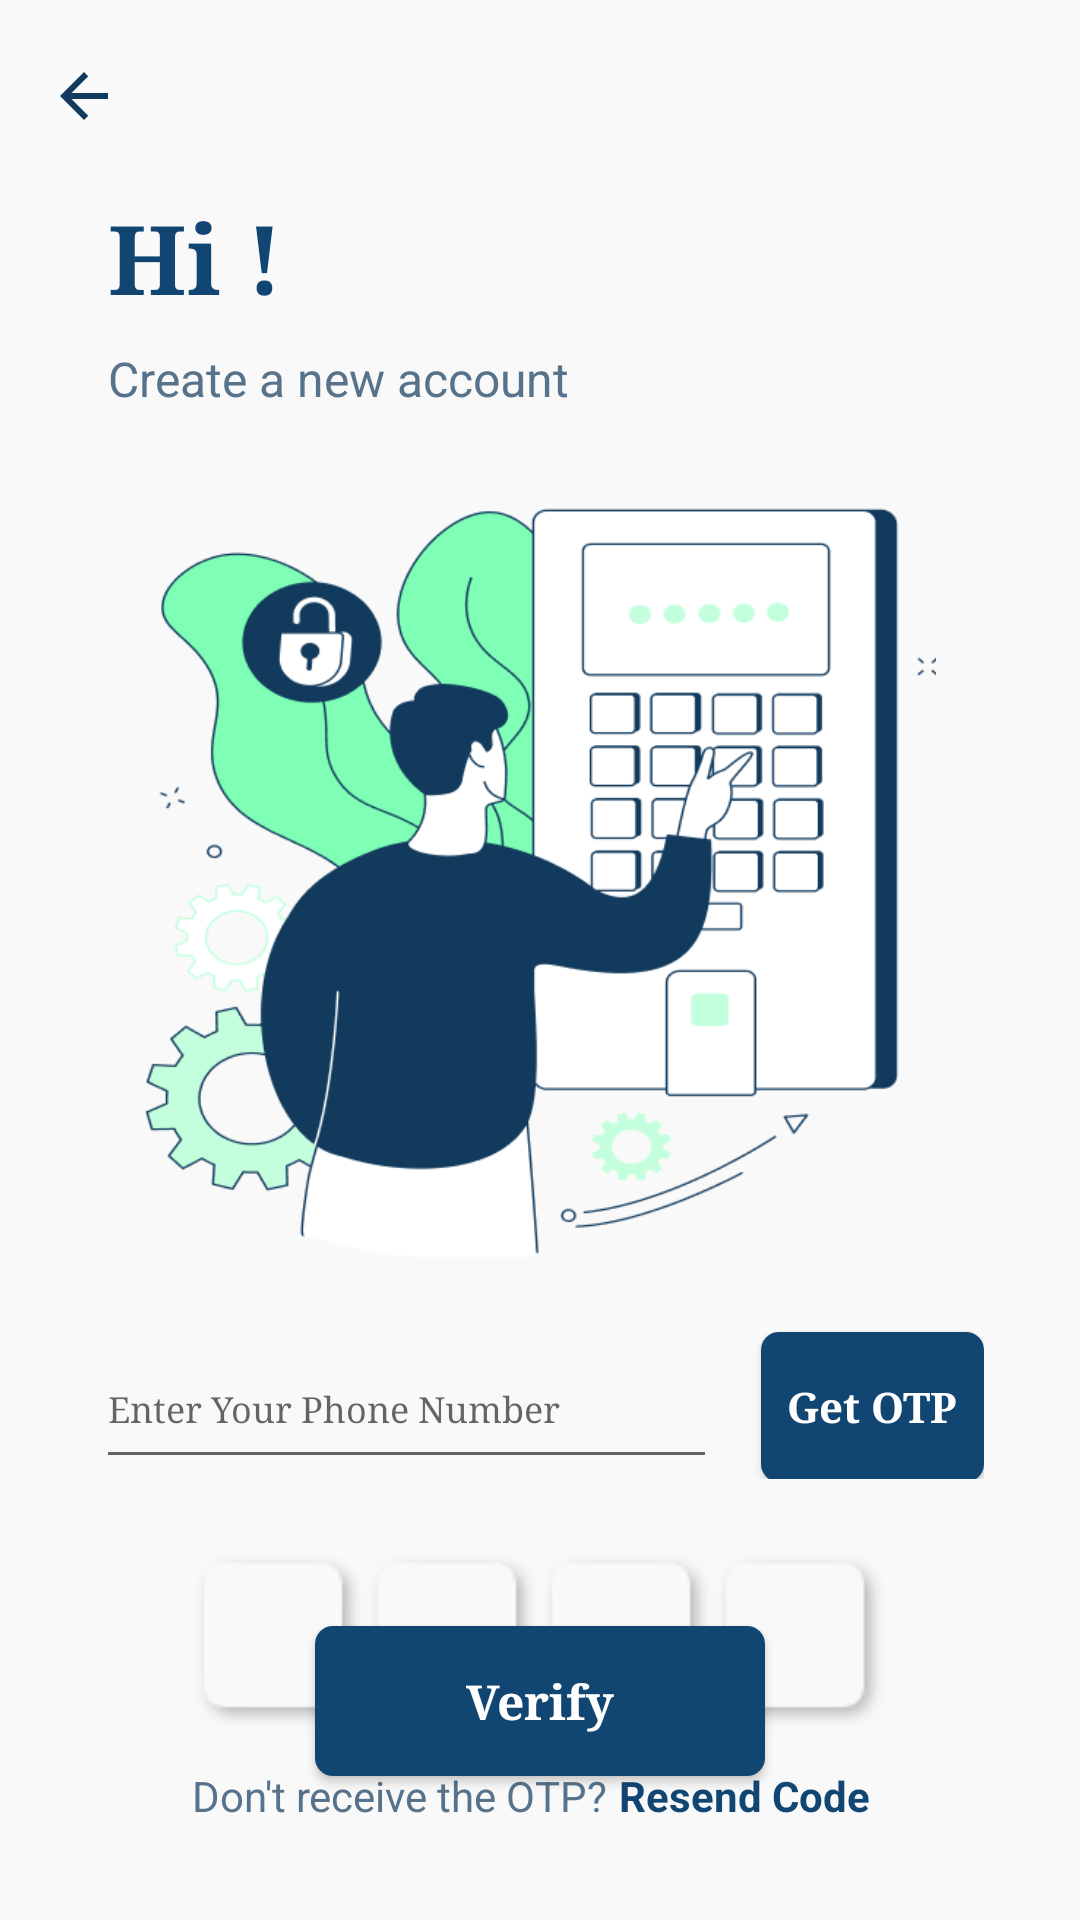

Locate icon controls on the screen. Image size 1080x1920, boxes as (x1, y1, x2, y2).
arrow: (60, 72, 108, 120)
